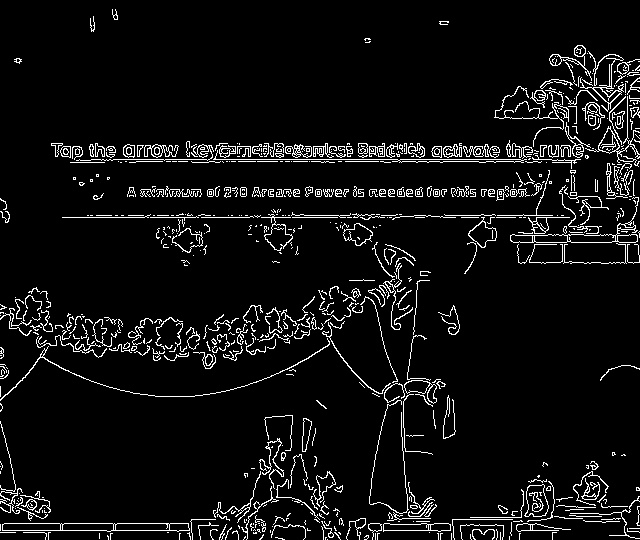down: (259, 219, 299, 256)
left: (462, 216, 500, 253), (168, 225, 210, 256)
right: (339, 220, 378, 251)
